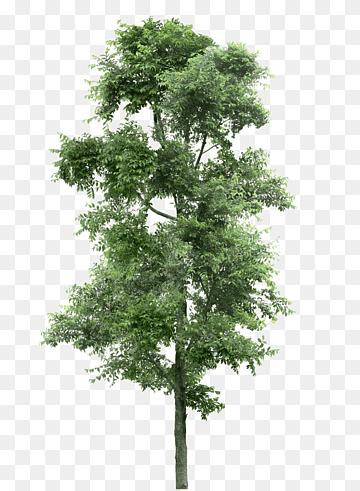tree: (46, 17, 299, 489)
